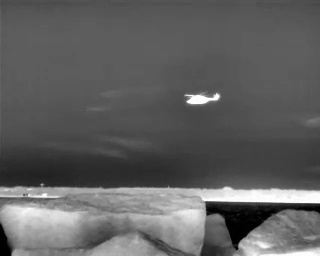HELICOPTER: (180, 86, 224, 110)
